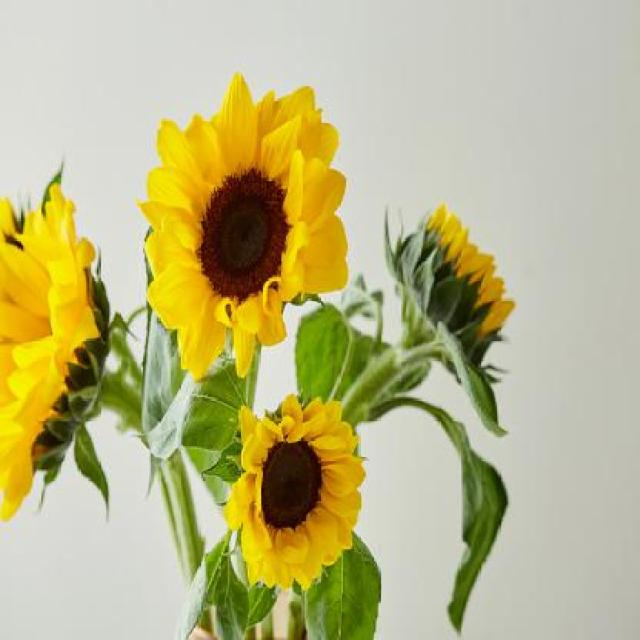sunflower: (126, 86, 359, 377), (0, 163, 111, 526), (217, 394, 368, 588)
